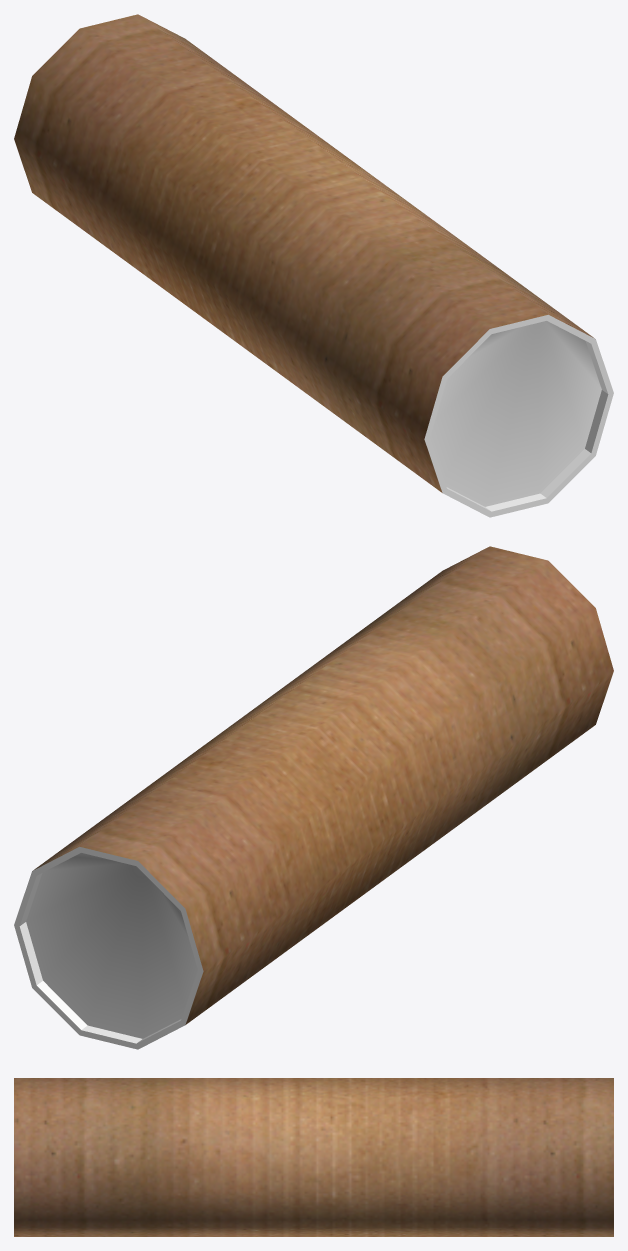
File: Paper_Tube_Full_Plain.fbx
3 renders of one model, top to bottom at view 1: azimuth 30°, elevation 25°; view 2: azimuth 150°, elevation 25°; view 3: azimuth 270°, elevation 25°, orthographic. The views are drawn at different scales.
Parts seen in each view (by area): view 1: polySurface135; view 2: polySurface135; view 3: polySurface135.
Part boxes in pixels (box(x1,y1,x2,y2)): polySurface135: box(14, 14, 613, 517); polySurface135: box(14, 546, 613, 1049); polySurface135: box(14, 1078, 613, 1236).
Bounding box in the file's own units: 8.44 × 8.03 × 31.66.
